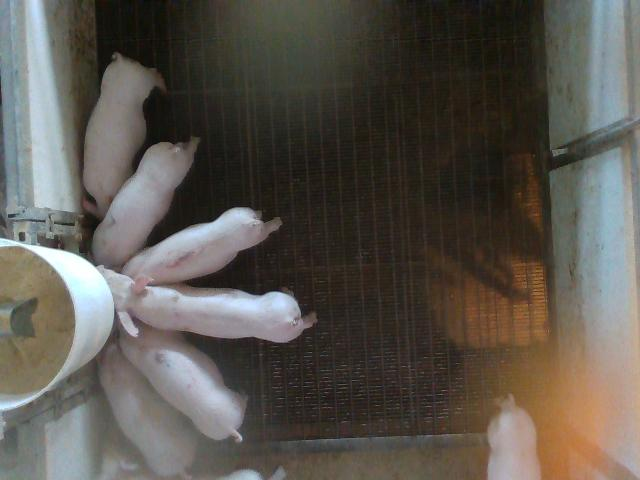pig-1: (122, 208, 281, 285)
